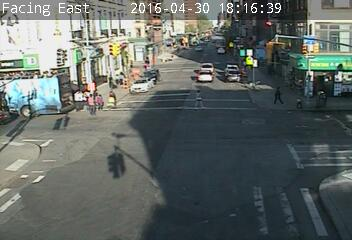neg: (298, 154, 340, 210), (50, 120, 87, 169), (181, 146, 214, 191), (120, 155, 151, 197), (141, 90, 168, 126), (56, 64, 78, 94), (241, 167, 261, 194), (170, 44, 189, 68), (200, 48, 217, 71), (266, 2, 282, 24), (56, 30, 66, 44)
pos: (268, 80, 292, 112), (79, 90, 99, 118), (187, 85, 207, 111), (106, 71, 121, 91), (124, 55, 138, 74), (96, 92, 109, 110), (142, 54, 154, 71)
